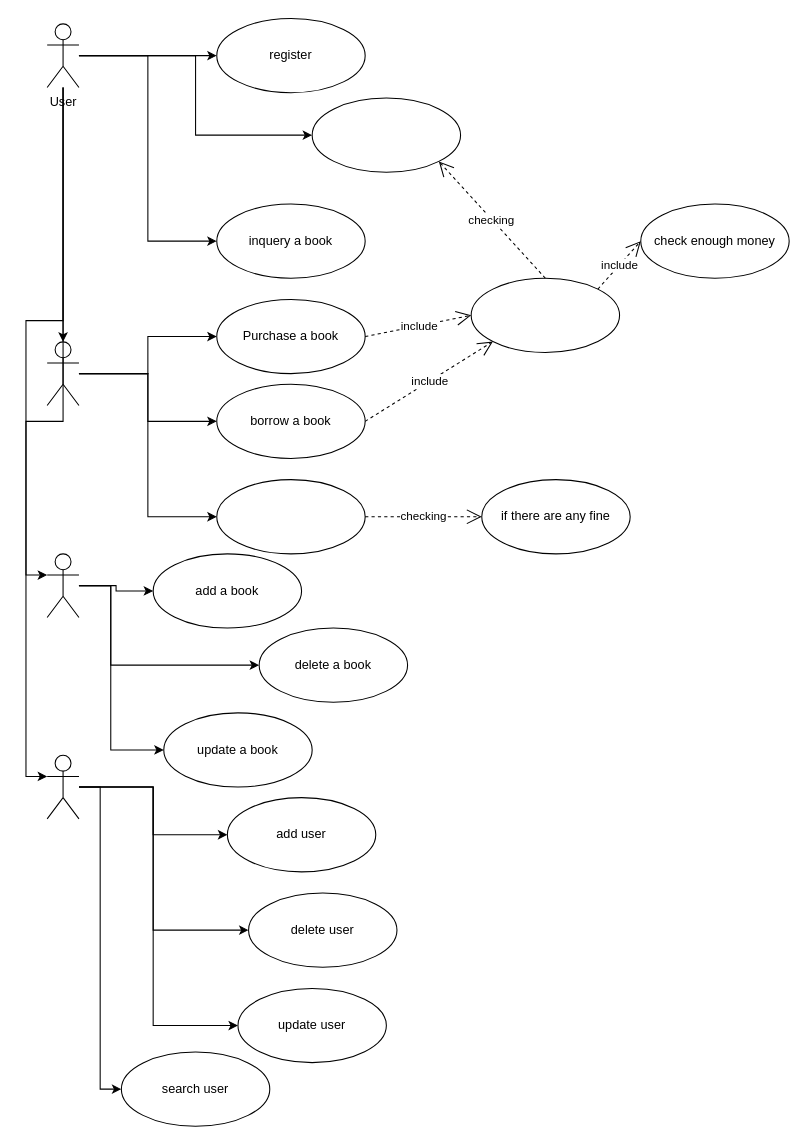
The diagram is 808 pixels wide and 1145 high, and some of its shapes have lost their labels. Each missing label, with the box of its shape:
Admin: (46, 754, 79, 819)
checkout: (470, 277, 620, 352)
Client: (46, 341, 79, 405)
Librarian: (46, 553, 79, 617)
log in: (311, 97, 461, 172)
return a book: (216, 479, 365, 554)
